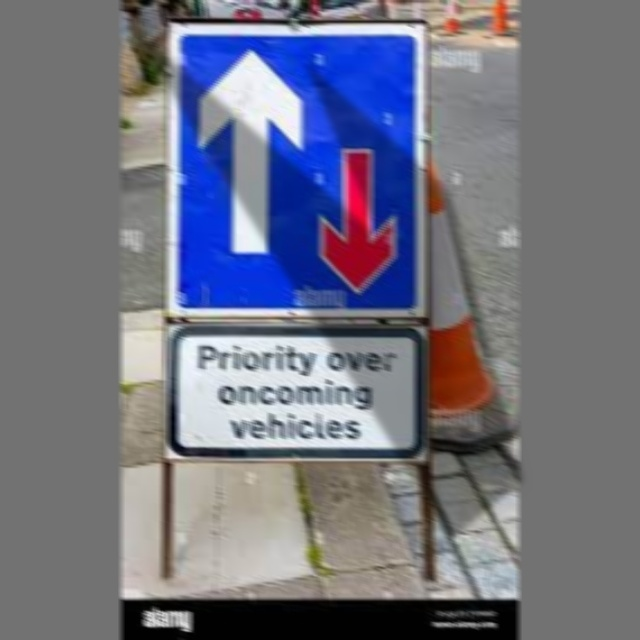Priority_for_Oncoming_Traffic: (180, 33, 418, 311)
